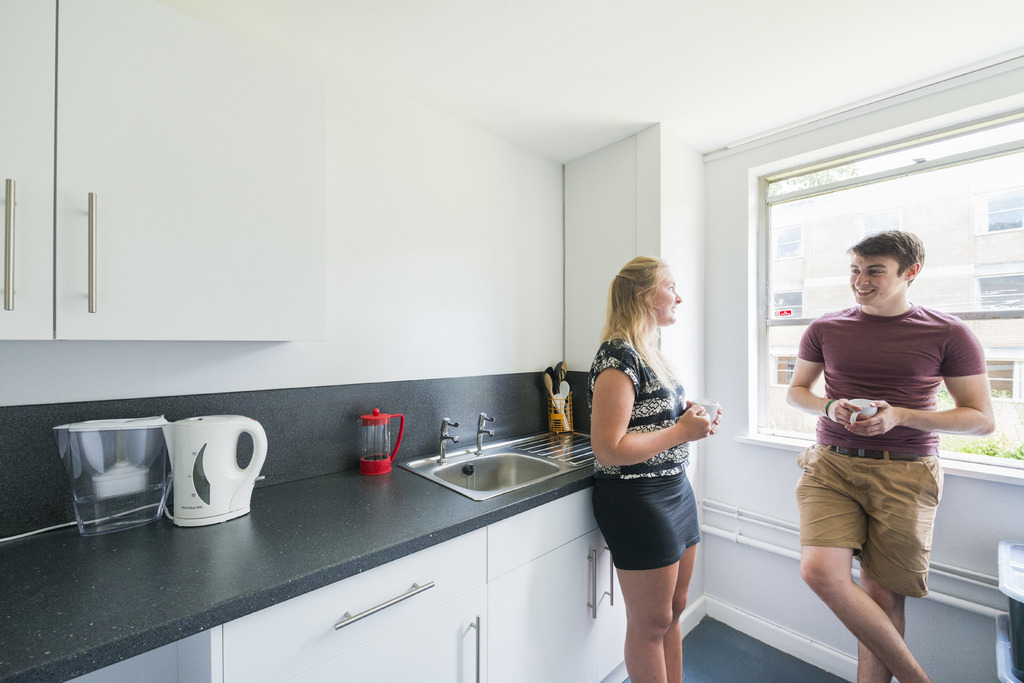tap: (437, 412, 464, 468), (472, 409, 496, 453)
